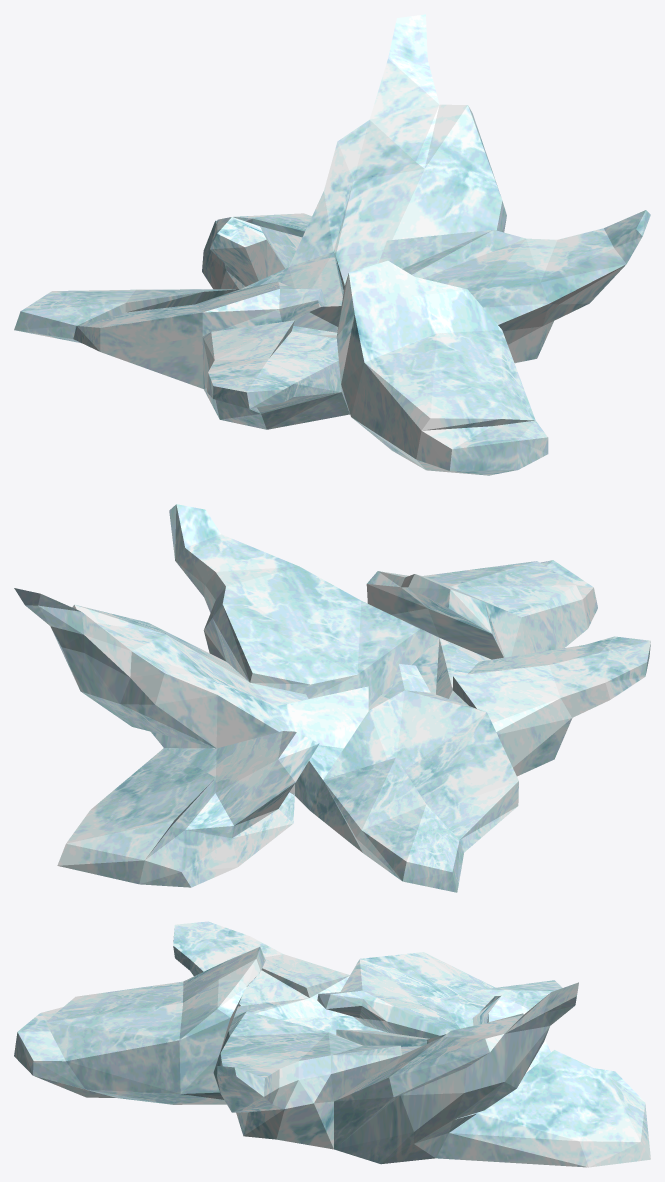
The model's file is C1SNICESHARDS_H.bgf.obj.
The picture shows the model from 3 angles, top to bottom: view 1: azimuth 30°, elevation 25°; view 2: azimuth 150°, elevation 25°; view 3: azimuth 270°, elevation 25°; orthographic projection. The views are drawn at different scales.
Visible parts, largest first — view 1: FRAG01, FRAG03, ROOT, FRAG02, FRAG05, FRAG04; view 2: ROOT, FRAG02, FRAG04, FRAG03, FRAG05, FRAG01; view 3: FRAG01, FRAG03, FRAG04, FRAG02, ROOT, FRAG05.
Part boxes in pixels (x1=…): FRAG01: x1=336, y1=260, x2=548, y2=475; FRAG03: x1=289, y1=14, x2=506, y2=291; ROOT: x1=14, y1=252, x2=343, y2=388; FRAG02: x1=378, y1=210, x2=650, y2=363; FRAG05: x1=202, y1=320, x2=349, y2=429; FRAG04: x1=202, y1=213, x2=311, y2=289; ROOT: x1=278, y1=664, x2=518, y2=892; FRAG02: x1=169, y1=504, x2=438, y2=706; FRAG04: x1=57, y1=731, x2=319, y2=887; FRAG03: x1=14, y1=588, x2=308, y2=795; FRAG05: x1=368, y1=636, x2=650, y2=776; FRAG01: x1=366, y1=560, x2=597, y2=694; FRAG01: x1=14, y1=947, x2=265, y2=1104; FRAG03: x1=334, y1=982, x2=578, y2=1164; FRAG04: x1=436, y1=995, x2=650, y2=1167; FRAG02: x1=213, y1=1011, x2=401, y2=1149; ROOT: x1=317, y1=952, x2=562, y2=1045; FRAG05: x1=173, y1=921, x2=386, y2=1034.
Bounding box in the file's own units: 34.91 × 16.62 × 46.43.
Materials: 6 (6 with a texture image).
